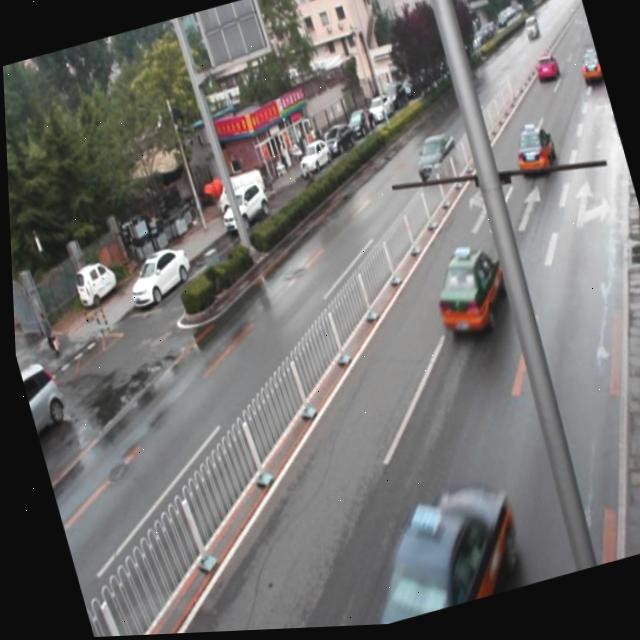car: (350, 474, 522, 626), (420, 244, 510, 343), (504, 120, 556, 184), (406, 133, 459, 188), (572, 51, 603, 92)
